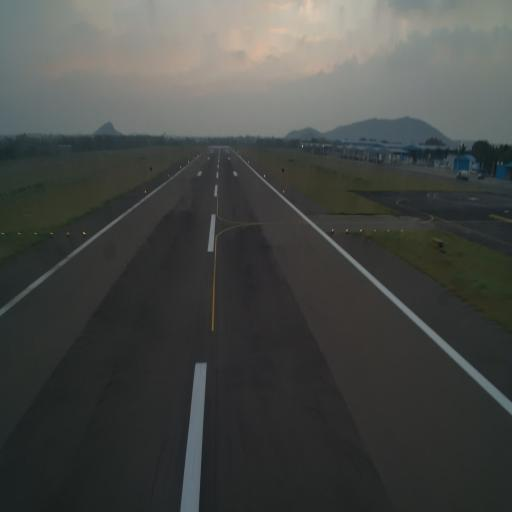on: (32, 230, 38, 237), (17, 231, 22, 237), (1, 230, 5, 237), (66, 231, 70, 237), (374, 226, 377, 233), (387, 227, 390, 234), (50, 231, 54, 236), (83, 230, 86, 236), (331, 228, 334, 234), (360, 228, 363, 233), (401, 228, 404, 233), (346, 227, 348, 232)
